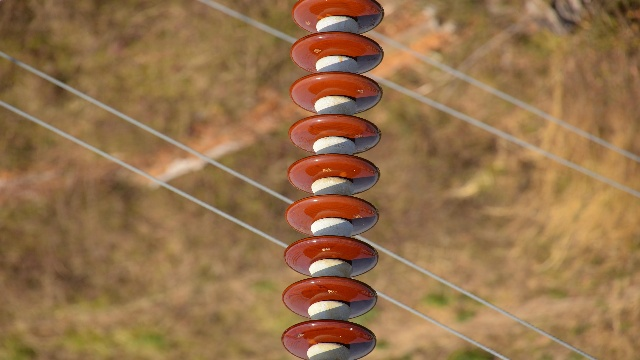insulator_unspecified: (281, 0, 384, 357)
